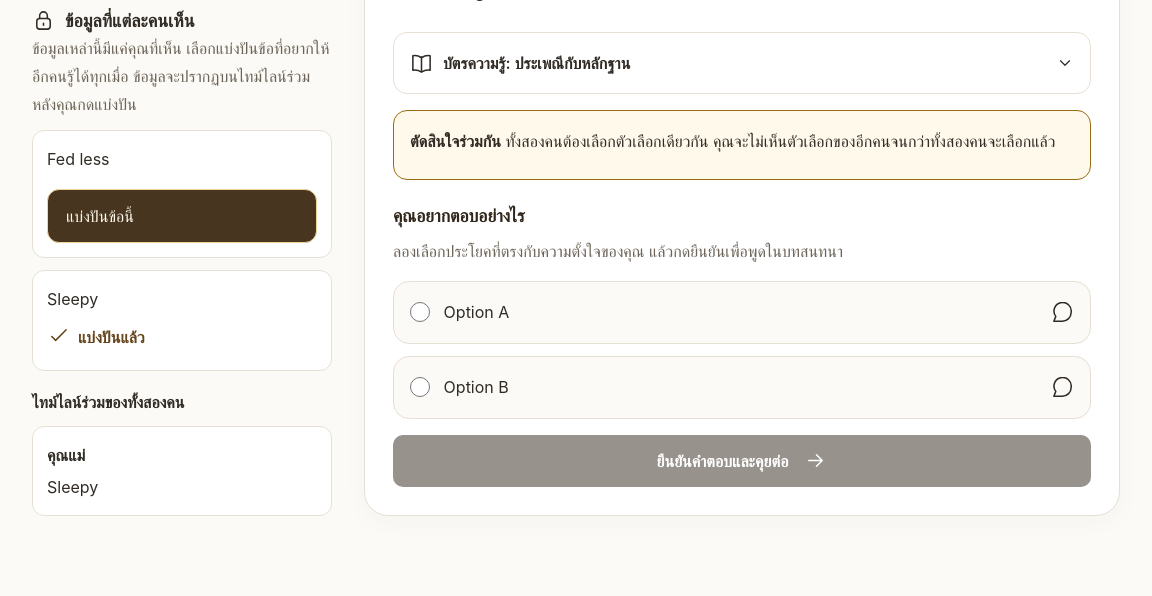
Test: hides choices and the partner's vote after voting, then reveals both choices on disagreement
The width and height of the screenshot is (1152, 596).
(page scrolled)
What coordinates should you click on to do the following:
click the radio button labelled "Option A"
I would click on:
 (420, 312)
Its box is [410,302,430,322].
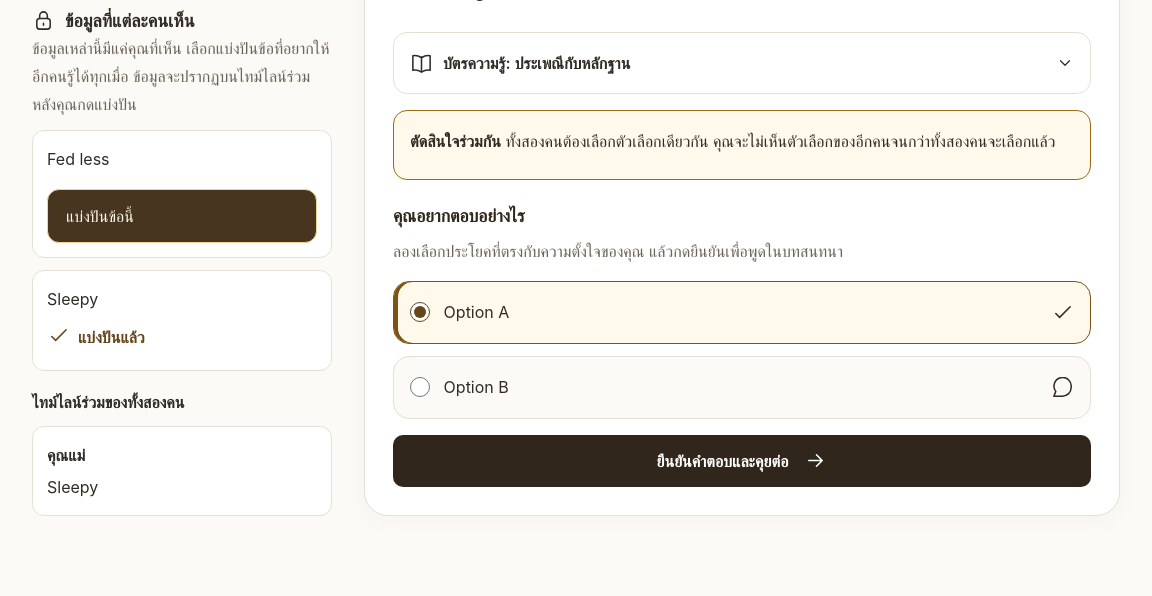
What coordinates should you click on to do the following:
click the button "ยืนยันคำตอบและคุยต่อ"
I would click on:
 (742, 461)
Its box is [393,435,1091,487].
(page scrolled)
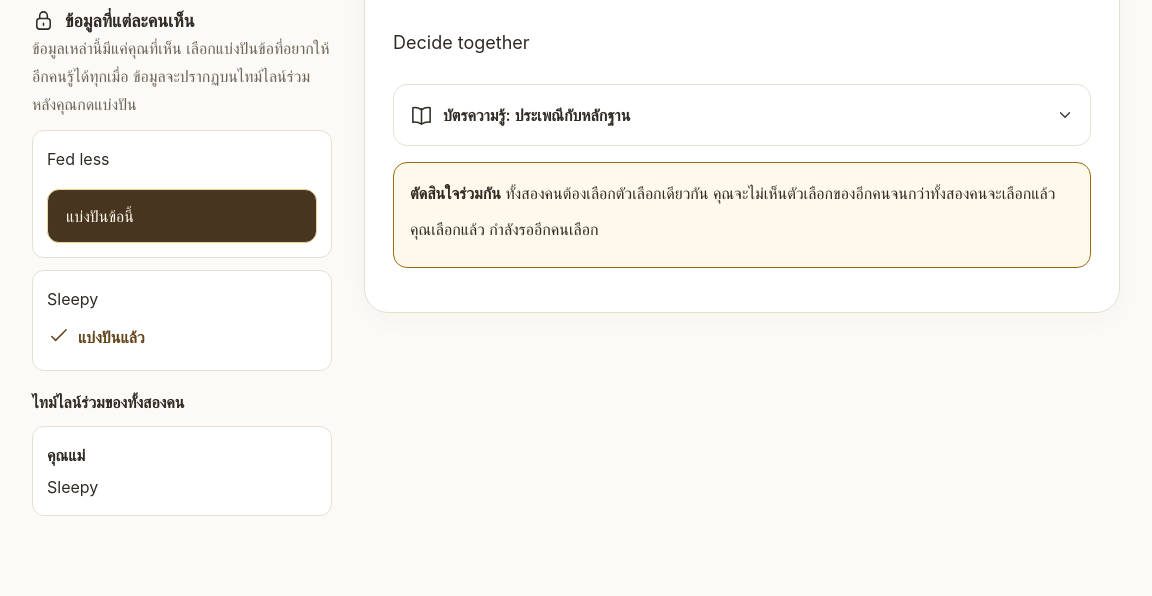
Result: the text "คุณเลือกแล้ว กำลังรออีกคนเลือก" is shown at [410,219,598,239]
Result: the text "Option A" is gone
Result: the text "Option B" is gone
